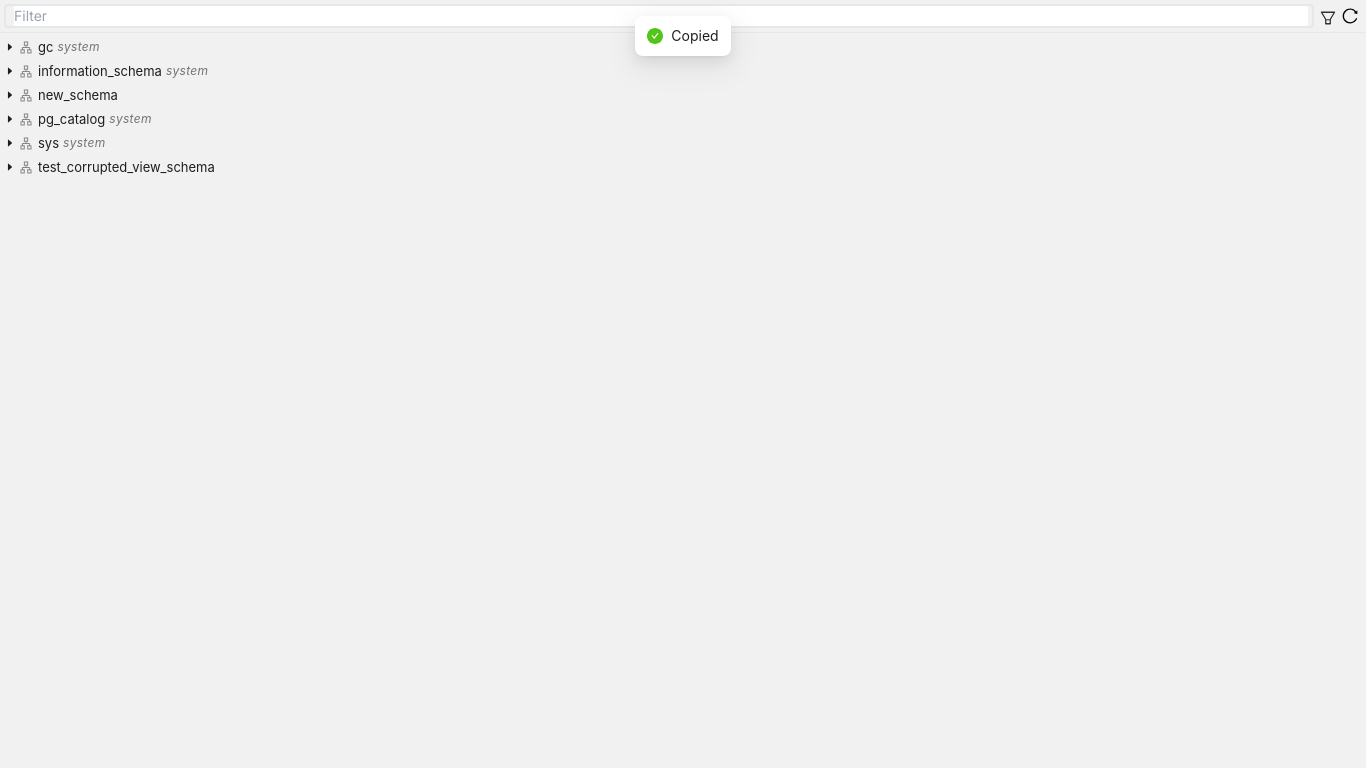
it: The SQLEditorSchemaTree component › filtering via the checkboxes › when filtering out system tables, hide those schemas from the tree
expect the element with test id "tables-tree" is shown: met, box [5,39,215,175]
// open the filter options, deselect 'system tables'
Click the button with test id "show-filter-options-icon": [1328, 16] box [1318,6,1338,26]
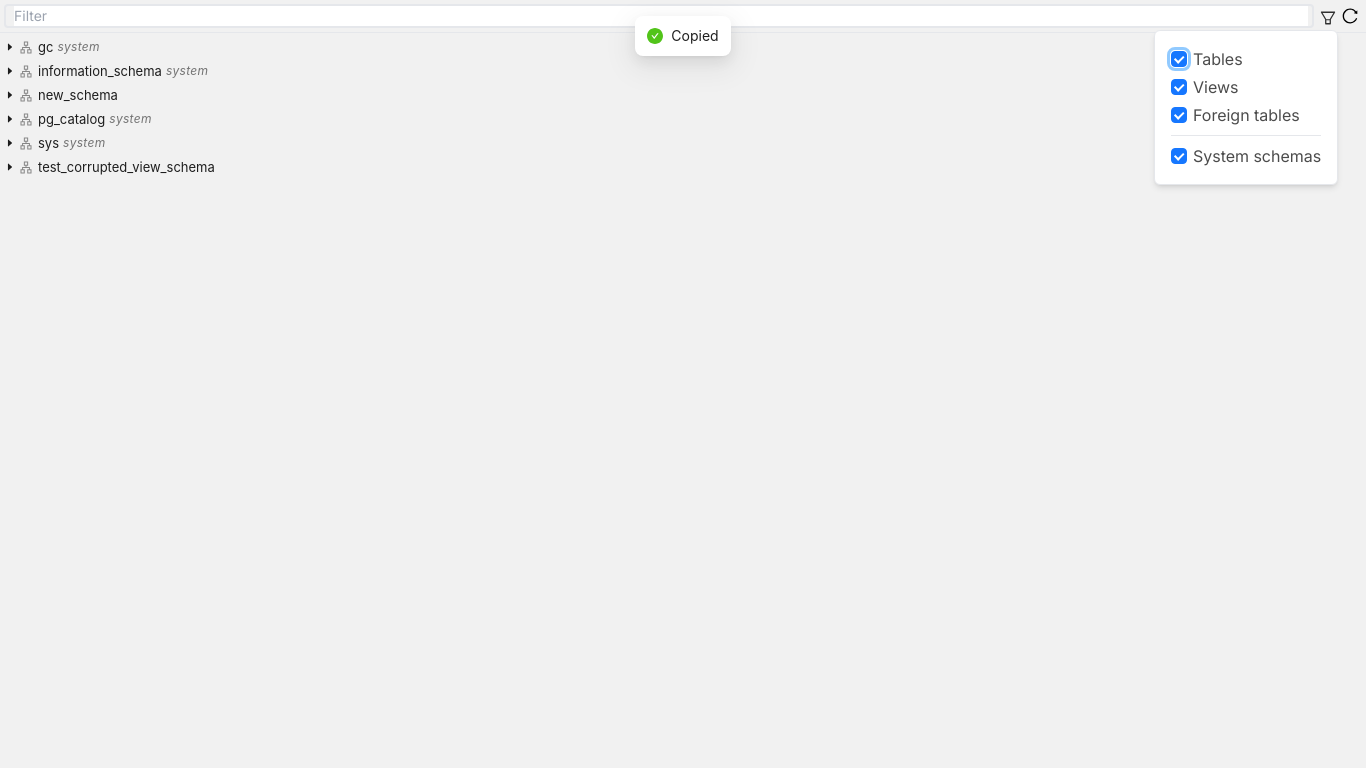
Click the text "System schemas": [1257, 156] box [1193,144,1321,168]
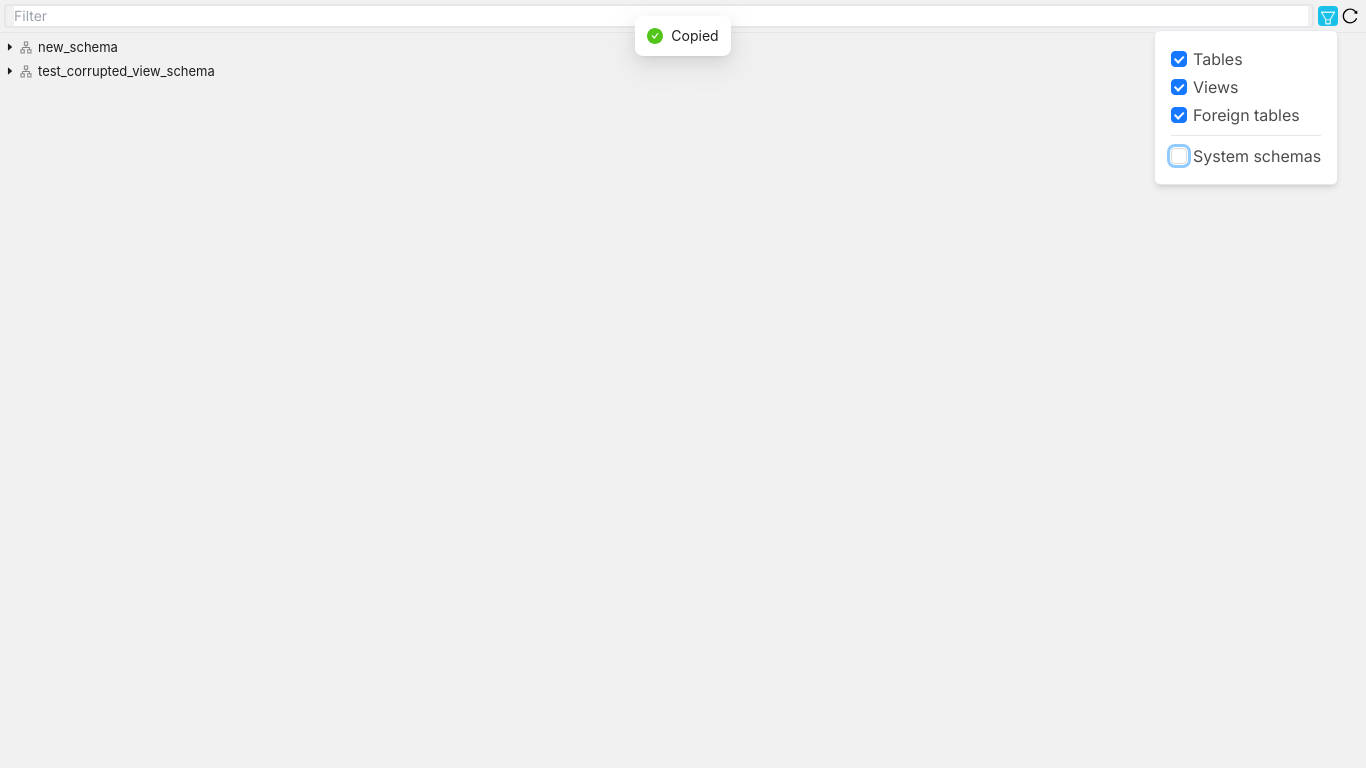
expect the text "gc" is gone: met
